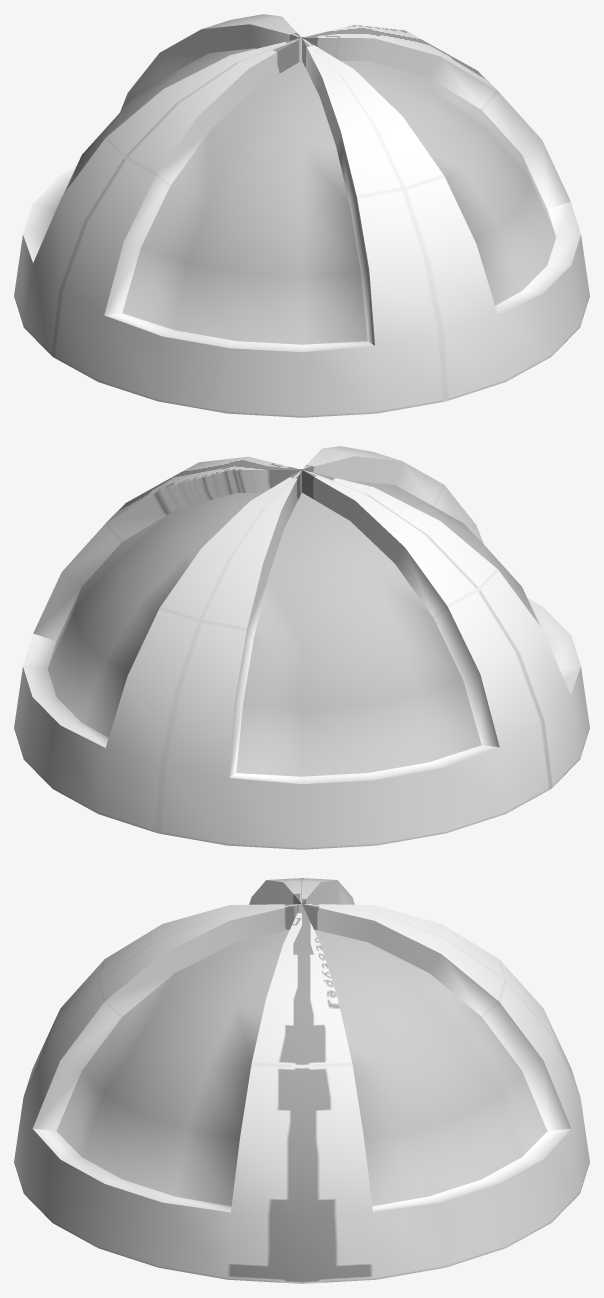
Rendered from Arch.fbx.
The picture shows the model from 3 angles, top to bottom: view 1: azimuth 30°, elevation 25°; view 2: azimuth 150°, elevation 25°; view 3: azimuth 270°, elevation 25°; orthographic projection.
Parts seen in each view (by area): view 1: Sphere_1; view 2: Sphere_1; view 3: Sphere_1.
Boxes of the visible parts, x1,y1,x2,y2 form: Sphere_1: (14,14,589,417); Sphere_1: (14,446,589,849); Sphere_1: (14,878,589,1283).
Size of the model in its own units: 11.6 by 5.81 by 11.6.
Materials: 2 (1 with a texture image).
